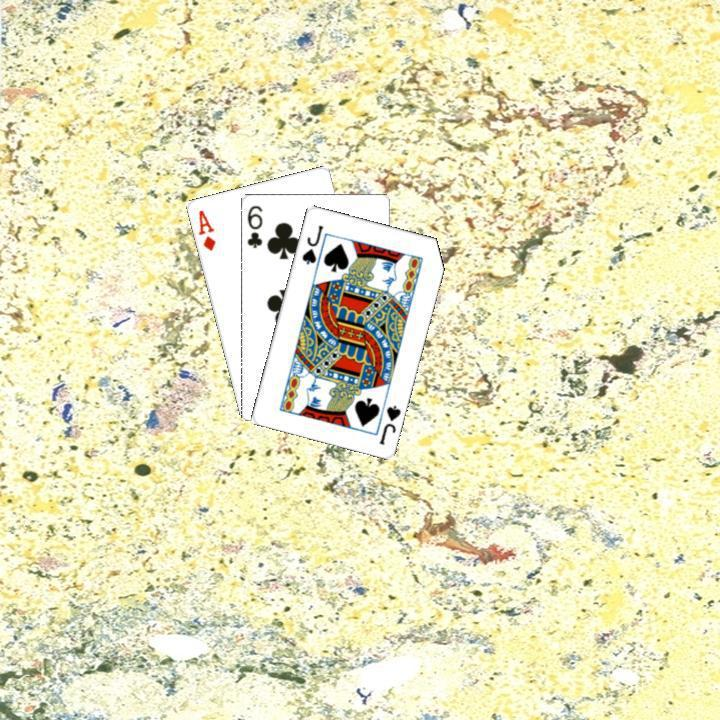6: (242, 200, 264, 249)
A: (193, 205, 217, 253)
J: (297, 220, 325, 266), (375, 401, 402, 446)
